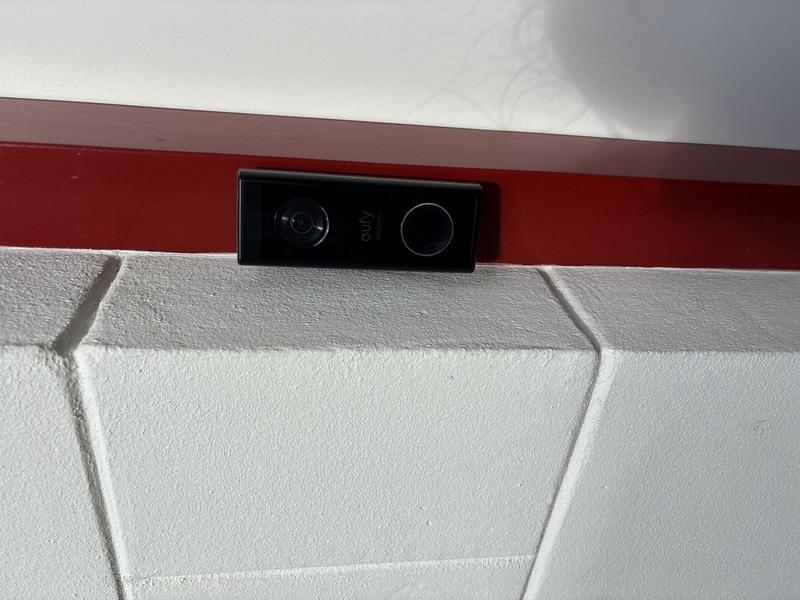doorbell: (320, 226, 437, 496)
